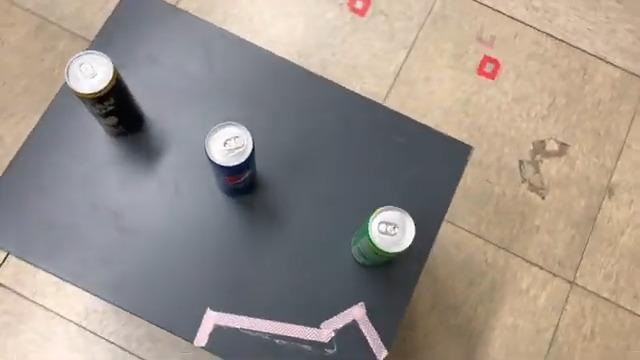OranSoda: (61, 48, 150, 142)
Pepsi: (202, 118, 262, 202)
Sprite: (344, 202, 420, 272)
